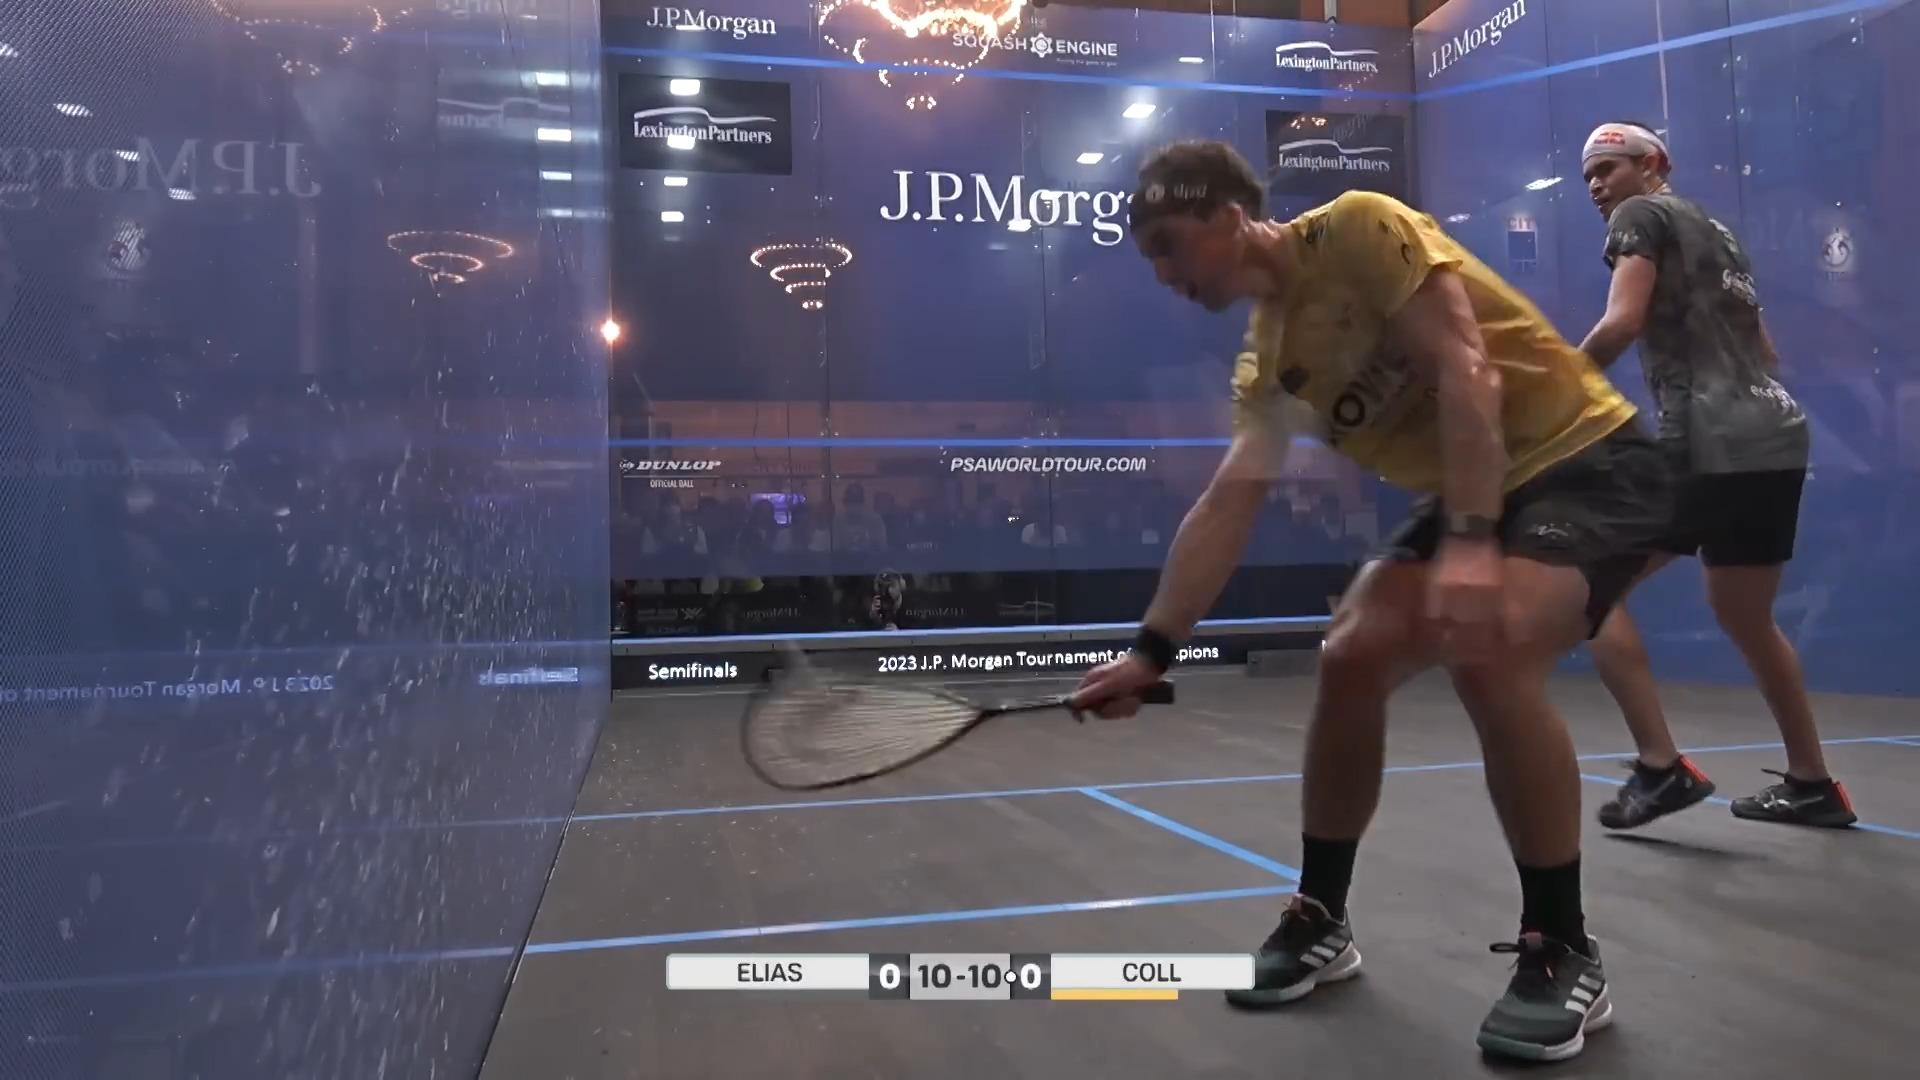Racket: (724, 662, 1176, 796)
